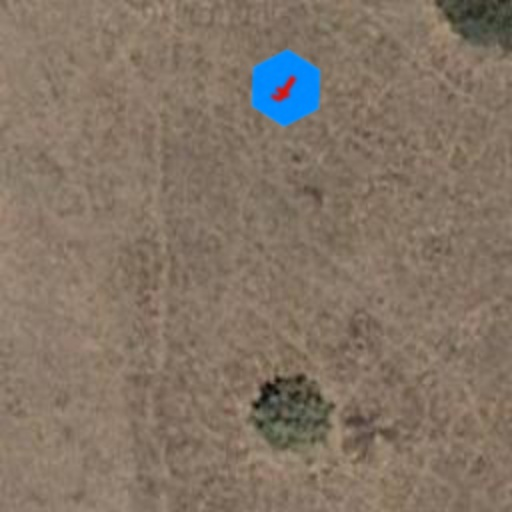hexagon: (230, 32, 342, 144)
